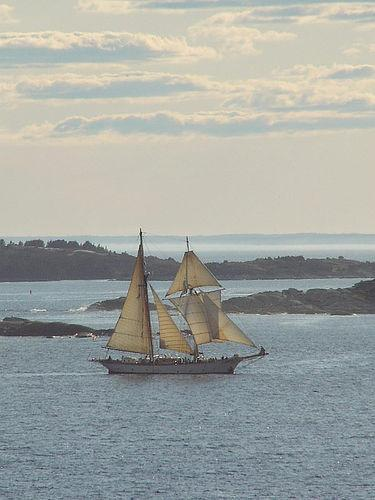Ship: (102, 232, 269, 378)
